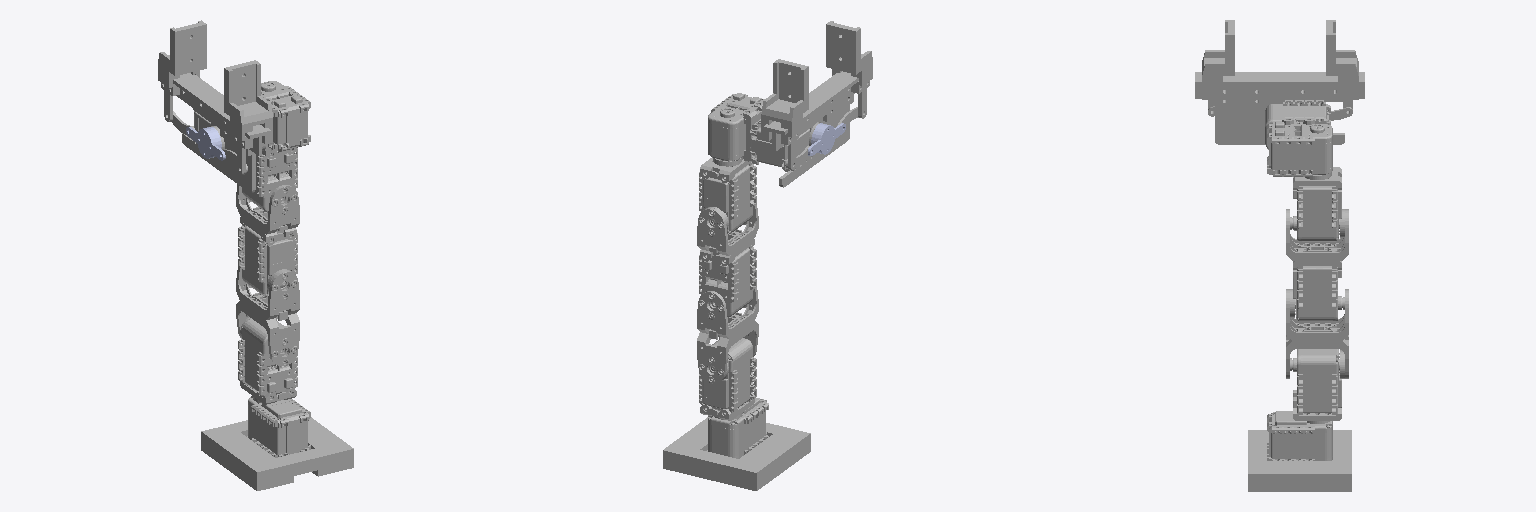
The robot description file, URDF, robot "robot_arm_description_urdfv6":
<?xml version="1.0" encoding="utf-8" ?>
<!-- This URDF was automatically created by SolidWorks to URDF Exporter! Originally created by [author] ([email redacted]) 
     Commit Version: 1.6.0-4-g7f85cfe  Build Version: 1.6.7995.38578
     For more information, please see http://wiki.ros.org/sw_urdf_exporter -->
<robot name="robot_arm_description_urdfv6">
    <link name="base_link">
        <inertial>
            <origin xyz="-1.07538454317689E-05 -0.0117775627710086 0.0125372666056596" rpy="0 0 0" />
            <mass value="0.121294608559114" />
            <inertia ixx="5.94662409992812E-05" ixy="1.4986009441338E-09" ixz="1.03128418541428E-08" iyy="0.000106542660004419" iyz="-5.79668025744953E-07" izz="5.77712338446558E-05" />
        </inertial>
        <visual>
            <origin xyz="0 0 0" rpy="0 0 0" />
            <geometry>
                <mesh filename="package://robot_arm_description_urdfv6/meshes/base_link.STL" />
            </geometry>
            <material name="">
                <color rgba="0.752941176470588 0.752941176470588 0.752941176470588 1" />
            </material>
        </visual>
        <collision>
            <origin xyz="0 0 0" rpy="0 0 0" />
            <geometry>
                <mesh filename="package://robot_arm_description_urdfv6/meshes/base_link.STL" />
            </geometry>
        </collision>
    </link>
    <link name="link1">
        <inertial>
            <origin xyz="2.94146431116214E-05 0.0269920612131043 -0.00083220015454471" rpy="0 0 0" />
            <mass value="0.0462541920676047" />
            <inertia ixx="1.20007548213709E-05" ixy="1.01847426351156E-08" ixz="1.49860094413093E-09" iyy="6.9698072517776E-06" iyz="-1.90997297407253E-07" izz="1.02170843156605E-05" />
        </inertial>
        <visual>
            <origin xyz="0 0 0" rpy="0 0 0" />
            <geometry>
                <mesh filename="package://robot_arm_description_urdfv6/meshes/link1.STL" />
            </geometry>
            <material name="">
                <color rgba="0.752941176470588 0.752941176470588 0.752941176470588 1" />
            </material>
        </visual>
        <collision>
            <origin xyz="0 0 0" rpy="0 0 0" />
            <geometry>
                <mesh filename="package://robot_arm_description_urdfv6/meshes/link1.STL" />
            </geometry>
        </collision>
    </link>
    <joint name="joint0" type="revolute">
        <origin xyz="0 0 0.021" rpy="1.5708 0 0" />
        <parent link="base_link" />
        <child link="link1" />
        <axis xyz="0 1 0" />
        <limit lower="-2.61" upper="2.61" effort="0" velocity="0" />
    </joint>
    <link name="link2">
        <inertial>
            <origin xyz="2.28486579373317E-06 0.026 -1.88579241854202E-16" rpy="0 0 0" />
            <mass value="0.0145830072313276" />
            <inertia ixx="6.47120046834471E-06" ixy="4.28350310331757E-22" ixz="1.04955163724937E-22" iyy="5.75321998222016E-06" iyz="-1.38527695901273E-17" izz="2.45168199477264E-06" />
        </inertial>
        <visual>
            <origin xyz="0 0 0" rpy="0 0 0" />
            <geometry>
                <mesh filename="package://robot_arm_description_urdfv6/meshes/link2.STL" />
            </geometry>
            <material name="">
                <color rgba="0.752941176470588 0.752941176470588 0.752941176470588 1" />
            </material>
        </visual>
        <collision>
            <origin xyz="0 0 0" rpy="0 0 0" />
            <geometry>
                <mesh filename="package://robot_arm_description_urdfv6/meshes/link2.STL" />
            </geometry>
        </collision>
    </link>
    <joint name="joint1" type="revolute">
        <origin xyz="0 0.0415 0" rpy="0 0 0" />
        <parent link="link1" />
        <child link="link2" />
        <axis xyz="0 0 1" />
        <limit lower="-2.61" upper="2.61" effort="0" velocity="0" />
    </joint>
    <link name="link3">
        <inertial>
            <origin xyz="-2.36223749316902E-05 0.019670540731528 -0.000718876565097297" rpy="0 0 0" />
            <mass value="0.0535456956833657" />
            <inertia ixx="1.5236355055544E-05" ixy="1.02840047357545E-08" ixz="-1.49860092852113E-09" iyy="9.8464172428884E-06" iyz="1.90997297414243E-07" izz="1.14429253130468E-05" />
        </inertial>
        <visual>
            <origin xyz="0 0 0" rpy="0 0 0" />
            <geometry>
                <mesh filename="package://robot_arm_description_urdfv6/meshes/link3.STL" />
            </geometry>
            <material name="">
                <color rgba="0.752941176470588 0.752941176470588 0.752941176470588 1" />
            </material>
        </visual>
        <collision>
            <origin xyz="0 0 0" rpy="0 0 0" />
            <geometry>
                <mesh filename="package://robot_arm_description_urdfv6/meshes/link3.STL" />
            </geometry>
        </collision>
    </link>
    <joint name="joint2" type="revolute">
        <origin xyz="0 0.052 0" rpy="-3.1416 0 -3.1416" />
        <parent link="link2" />
        <child link="link3" />
        <axis xyz="0 0 1" />
        <limit lower="-2.61" upper="2.61" effort="0" velocity="0" />
    </joint>
    <link name="link4">
        <inertial>
            <origin xyz="2.69860165410205E-05 0.0145079387868957 0.000832200154544751" rpy="0 0 0" />
            <mass value="0.0462541920676045" />
            <inertia ixx="1.20007548213709E-05" ixy="-1.04409410731774E-08" ixz="-1.49860094413215E-09" iyy="6.96980725177758E-06" iyz="-1.90997297407222E-07" izz="1.02170843156605E-05" />
        </inertial>
        <visual>
            <origin xyz="0 0 0" rpy="0 0 0" />
            <geometry>
                <mesh filename="package://robot_arm_description_urdfv6/meshes/link4.STL" />
            </geometry>
            <material name="">
                <color rgba="0.752941176470588 0.752941176470588 0.752941176470588 1" />
            </material>
        </visual>
        <collision>
            <origin xyz="0 0 0" rpy="0 0 0" />
            <geometry>
                <mesh filename="package://robot_arm_description_urdfv6/meshes/link4.STL" />
            </geometry>
        </collision>
    </link>
    <joint name="joint3" type="revolute">
        <origin xyz="0 0.0675 0" rpy="0 0 0" />
        <parent link="link3" />
        <child link="link4" />
        <axis xyz="0 0 -1" />
        <limit lower="-2.61" upper="2.61" effort="0" velocity="0" />
    </joint>
    <link name="link5">
        <inertial>
            <origin xyz="-0.0348900522484704 0.0327211837420749 0.020349717936593" rpy="0 0 0" />
            <mass value="0.140900258362422" />
            <inertia ixx="5.94784854048947E-05" ixy="2.00927826545369E-07" ixz="-2.011820400424E-07" iyy="5.26566243243145E-05" iyz="1.01616894838829E-06" izz="2.33466420632803E-05" />
        </inertial>
        <visual>
            <origin xyz="0 0 0" rpy="0 0 0" />
            <geometry>
                <mesh filename="package://robot_arm_description_urdfv6/meshes/link5.STL" />
            </geometry>
            <material name="">
                <color rgba="0.752941176470588 0.752941176470588 0.752941176470588 1" />
            </material>
        </visual>
        <collision>
            <origin xyz="0 0 0" rpy="0 0 0" />
            <geometry>
                <mesh filename="package://robot_arm_description_urdfv6/meshes/link5.STL" />
            </geometry>
        </collision>
    </link>
    <joint name="joint4" type="revolute">
        <origin xyz="0 0.0405 0" rpy="-3.1416 0 -3.1416" />
        <parent link="link4" />
        <child link="link5" />
        <axis xyz="0 -1 0" />
        <limit lower="-2.61" upper="2.61" effort="0" velocity="0" />
    </joint>
    <!-- <link
    name="endposition">
    <inertial>
      <origin
        xyz="-3.46944695195361E-17 -0.0216087961436311 0.00349267226366691"
        rpy="0 0 0" />
      <mass
        value="0.00601954229095053" />
      <inertia
        ixx="3.853040967078E-06"
        ixy="-3.88108084128754E-21"
        ixz="-8.2890185036032E-23"
        iyy="1.32172840672189E-07"
        iyz="-6.38834117868935E-08"
        izz="3.93224766260515E-06" />
    </inertial>
    <visual>
      <origin
        xyz="0 0 0"
        rpy="0 0 0" />
      <geometry>
        <mesh
          filename="package://robot_arm_description_urdfv6/meshes/endposition.STL" />
      </geometry>
      <material
        name="">
        <color
          rgba="0.792156862745098 0.819607843137255 0.933333333333333 1" />
      </material>
    </visual>
    <collision>
      <origin
        xyz="0 0 0"
        rpy="0 0 0" />
      <geometry>
        <mesh
          filename="package://robot_arm_description_urdfv6/meshes/endposition.STL" />
      </geometry>
    </collision>
  </link> -->
    <!-- <joint
    name="fixjoint"
    type="fixed">
    <origin
      xyz="-0.069 0.022 0.0285"
      rpy="3.1416 1.5708 0" />
    <parent
      link="link5" />
    <child
      link="endposition" />
    <axis
      xyz="0 0 0" />
  </joint> -->
    <link name="gripperindication">
        <inertial>
            <origin xyz="1.67227343084164E-15 -0.00438007948641138 -1.38777878078145E-16" rpy="0 0 0" />
            <mass value="0.00336712206554558" />
            <inertia ixx="1.09965259115178E-07" ixy="-1.22673275657772E-22" ixz="2.31373380475812E-22" iyy="3.27204441176996E-07" iyz="-3.86824446185331E-22" izz="2.55595049786693E-07" />
        </inertial>
        <visual>
            <origin xyz="0 0 0" rpy="0 0 0" />
            <geometry>
                <mesh filename="package://robot_arm_description_urdfv6/meshes/gripperindication.STL" />
            </geometry>
            <material name="">
                <color rgba="0.792156862745098 0.819607843137255 0.933333333333333 1" />
            </material>
        </visual>
        <collision>
            <origin xyz="0 0 0" rpy="0 0 0" />
            <geometry>
                <mesh filename="package://robot_arm_description_urdfv6/meshes/gripperindication.STL" />
            </geometry>
        </collision>
    </link>
    <joint name="joint5" type="revolute">
        <origin xyz="-0.061 0.022 0.0285" rpy="1.5708 1.5708 0" />
        <parent link="link5" />
        <child link="gripperindication" />
        <axis xyz="0 -1 0" />
        <limit lower="-2.61" upper="0" effort="0" velocity="0" />
    </joint>
    <link name="grip_point" />
    <joint name="grip_fixed" type="fixed">
        <origin xyz="-0.060 0.097 0.0285" rpy="1.5708 1.5708 0" />
        <parent link="link5" />
        <child link="grip_point" />
    </joint>
    <link name="world" />
    <joint name="fixed_joint" type="fixed">
        <origin xyz="0 0 0.026" rpy="0 0 0" />
        <parent link="world" />
        <child link="base_link" />
    </joint>
    <transmission name="trans_joint0">
        <type>transmission_interface/SimpleTransmission</type>
        <joint name="joint0">
            <hardwareInterface>hardware_interface/EffortJointInterface</hardwareInterface>
        </joint>
        <actuator name="joint0_motor">
            <hardwareInterface>hardware_interface/EffortJointInterface</hardwareInterface>
            <mechanicalReduction>1</mechanicalReduction>
        </actuator>
    </transmission>
    <transmission name="trans_joint1">
        <type>transmission_interface/SimpleTransmission</type>
        <joint name="joint1">
            <hardwareInterface>hardware_interface/EffortJointInterface</hardwareInterface>
        </joint>
        <actuator name="joint1_motor">
            <hardwareInterface>hardware_interface/EffortJointInterface</hardwareInterface>
            <mechanicalReduction>1</mechanicalReduction>
        </actuator>
    </transmission>
    <transmission name="trans_joint2">
        <type>transmission_interface/SimpleTransmission</type>
        <joint name="joint2">
            <hardwareInterface>hardware_interface/EffortJointInterface</hardwareInterface>
        </joint>
        <actuator name="joint2_motor">
            <hardwareInterface>hardware_interface/EffortJointInterface</hardwareInterface>
            <mechanicalReduction>1</mechanicalReduction>
        </actuator>
    </transmission>
    <transmission name="trans_joint3">
        <type>transmission_interface/SimpleTransmission</type>
        <joint name="joint3">
            <hardwareInterface>hardware_interface/EffortJointInterface</hardwareInterface>
        </joint>
        <actuator name="joint3_motor">
            <hardwareInterface>hardware_interface/EffortJointInterface</hardwareInterface>
            <mechanicalReduction>1</mechanicalReduction>
        </actuator>
    </transmission>
    <transmission name="trans_joint4">
        <type>transmission_interface/SimpleTransmission</type>
        <joint name="joint4">
            <hardwareInterface>hardware_interface/EffortJointInterface</hardwareInterface>
        </joint>
        <actuator name="joint4_motor">
            <hardwareInterface>hardware_interface/EffortJointInterface</hardwareInterface>
            <mechanicalReduction>1</mechanicalReduction>
        </actuator>
    </transmission>
    <transmission name="trans_joint5">
        <type>transmission_interface/SimpleTransmission</type>
        <joint name="joint5">
            <hardwareInterface>hardware_interface/EffortJointInterface</hardwareInterface>
        </joint>
        <actuator name="joint5_motor">
            <hardwareInterface>hardware_interface/EffortJointInterface</hardwareInterface>
            <mechanicalReduction>1</mechanicalReduction>
        </actuator>
    </transmission>
    <gazebo>
        <plugin name="gazebo_ros_control">
            <robotNamespace>/</robotNamespace>
        </plugin>
    </gazebo>
</robot>

--- What the picture shows (computed from the rendered views, not written in the file) ---
Views: 3 orthographic renders of the robot side by side, from view 1: azimuth 30°, elevation 25°; view 2: azimuth 150°, elevation 25°; view 3: azimuth 270°, elevation 25°.
Robot: robot_arm_description_urdfv6 — 9 links, 8 joints (6 revolute, 2 fixed); root link world; default pose: every joint at zero.
Links seen in each view (by area): view 1: link5, base_link, link3, link2, link1, link4, gripperindication; view 2: link5, base_link, link3, link2, link4, link1, gripperindication; view 3: link5, base_link, link3, link1, link4, link2.
Boxes of the visible links, x1,y1,x2,y2 form: link5: (158, 20, 310, 192); base_link: (201, 396, 353, 490); link3: (236, 184, 299, 297); link2: (236, 262, 299, 365); link1: (238, 317, 297, 404); link4: (242, 148, 297, 212); gripperindication: (186, 127, 225, 160); link5: (708, 21, 872, 187); base_link: (663, 398, 810, 490); link3: (697, 205, 758, 317); link2: (697, 287, 758, 383); link4: (699, 158, 756, 234); link1: (699, 338, 756, 420); gripperindication: (808, 123, 845, 155); link5: (1195, 20, 1364, 179); base_link: (1248, 411, 1351, 491); link3: (1286, 209, 1348, 320); link1: (1290, 349, 1344, 420); link4: (1290, 167, 1344, 241); link2: (1286, 289, 1348, 378).
Size in the robot's own frame: 0.113 by 0.13 by 0.3455 metres.
7 mesh visuals loaded from 7 distinct referenced files (7 binary STL).